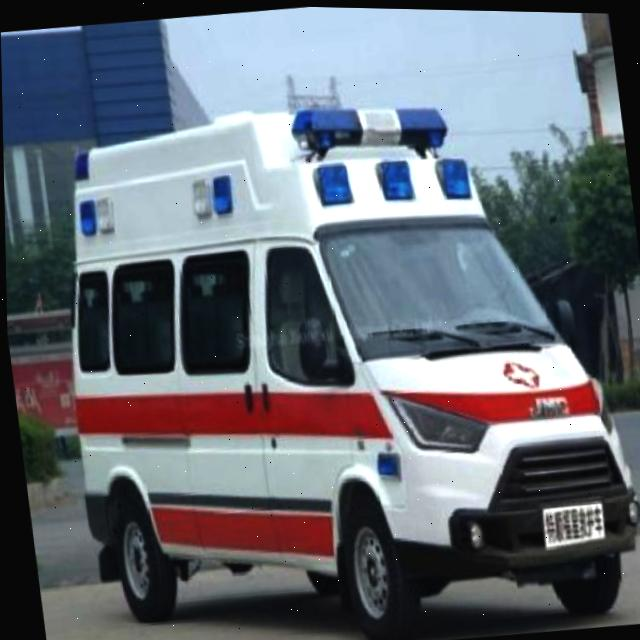emergency: (34, 68, 640, 640)
